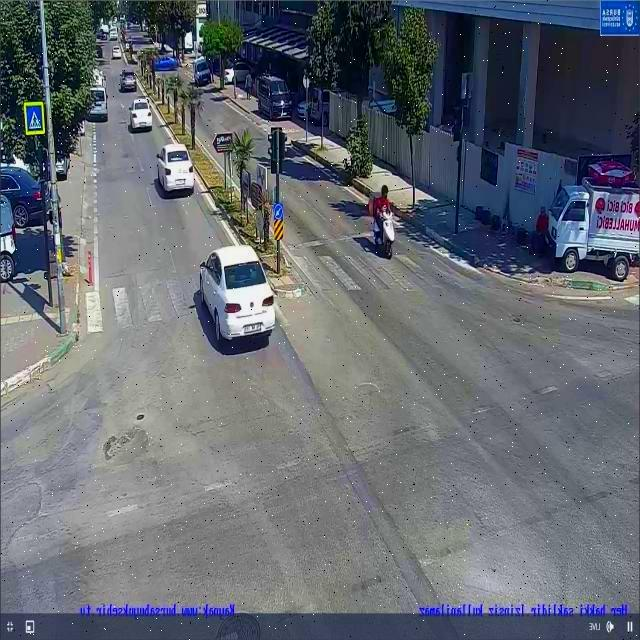Car: (198, 241, 277, 346), (0, 167, 50, 229), (157, 143, 195, 195), (257, 74, 291, 120), (0, 195, 17, 282), (302, 87, 334, 127), (128, 98, 152, 130), (222, 61, 252, 86), (88, 86, 108, 122), (193, 56, 211, 85), (154, 56, 178, 71), (120, 70, 136, 92), (158, 44, 174, 54), (112, 46, 122, 59), (109, 28, 118, 40)
Cycle: (370, 182, 397, 259)
